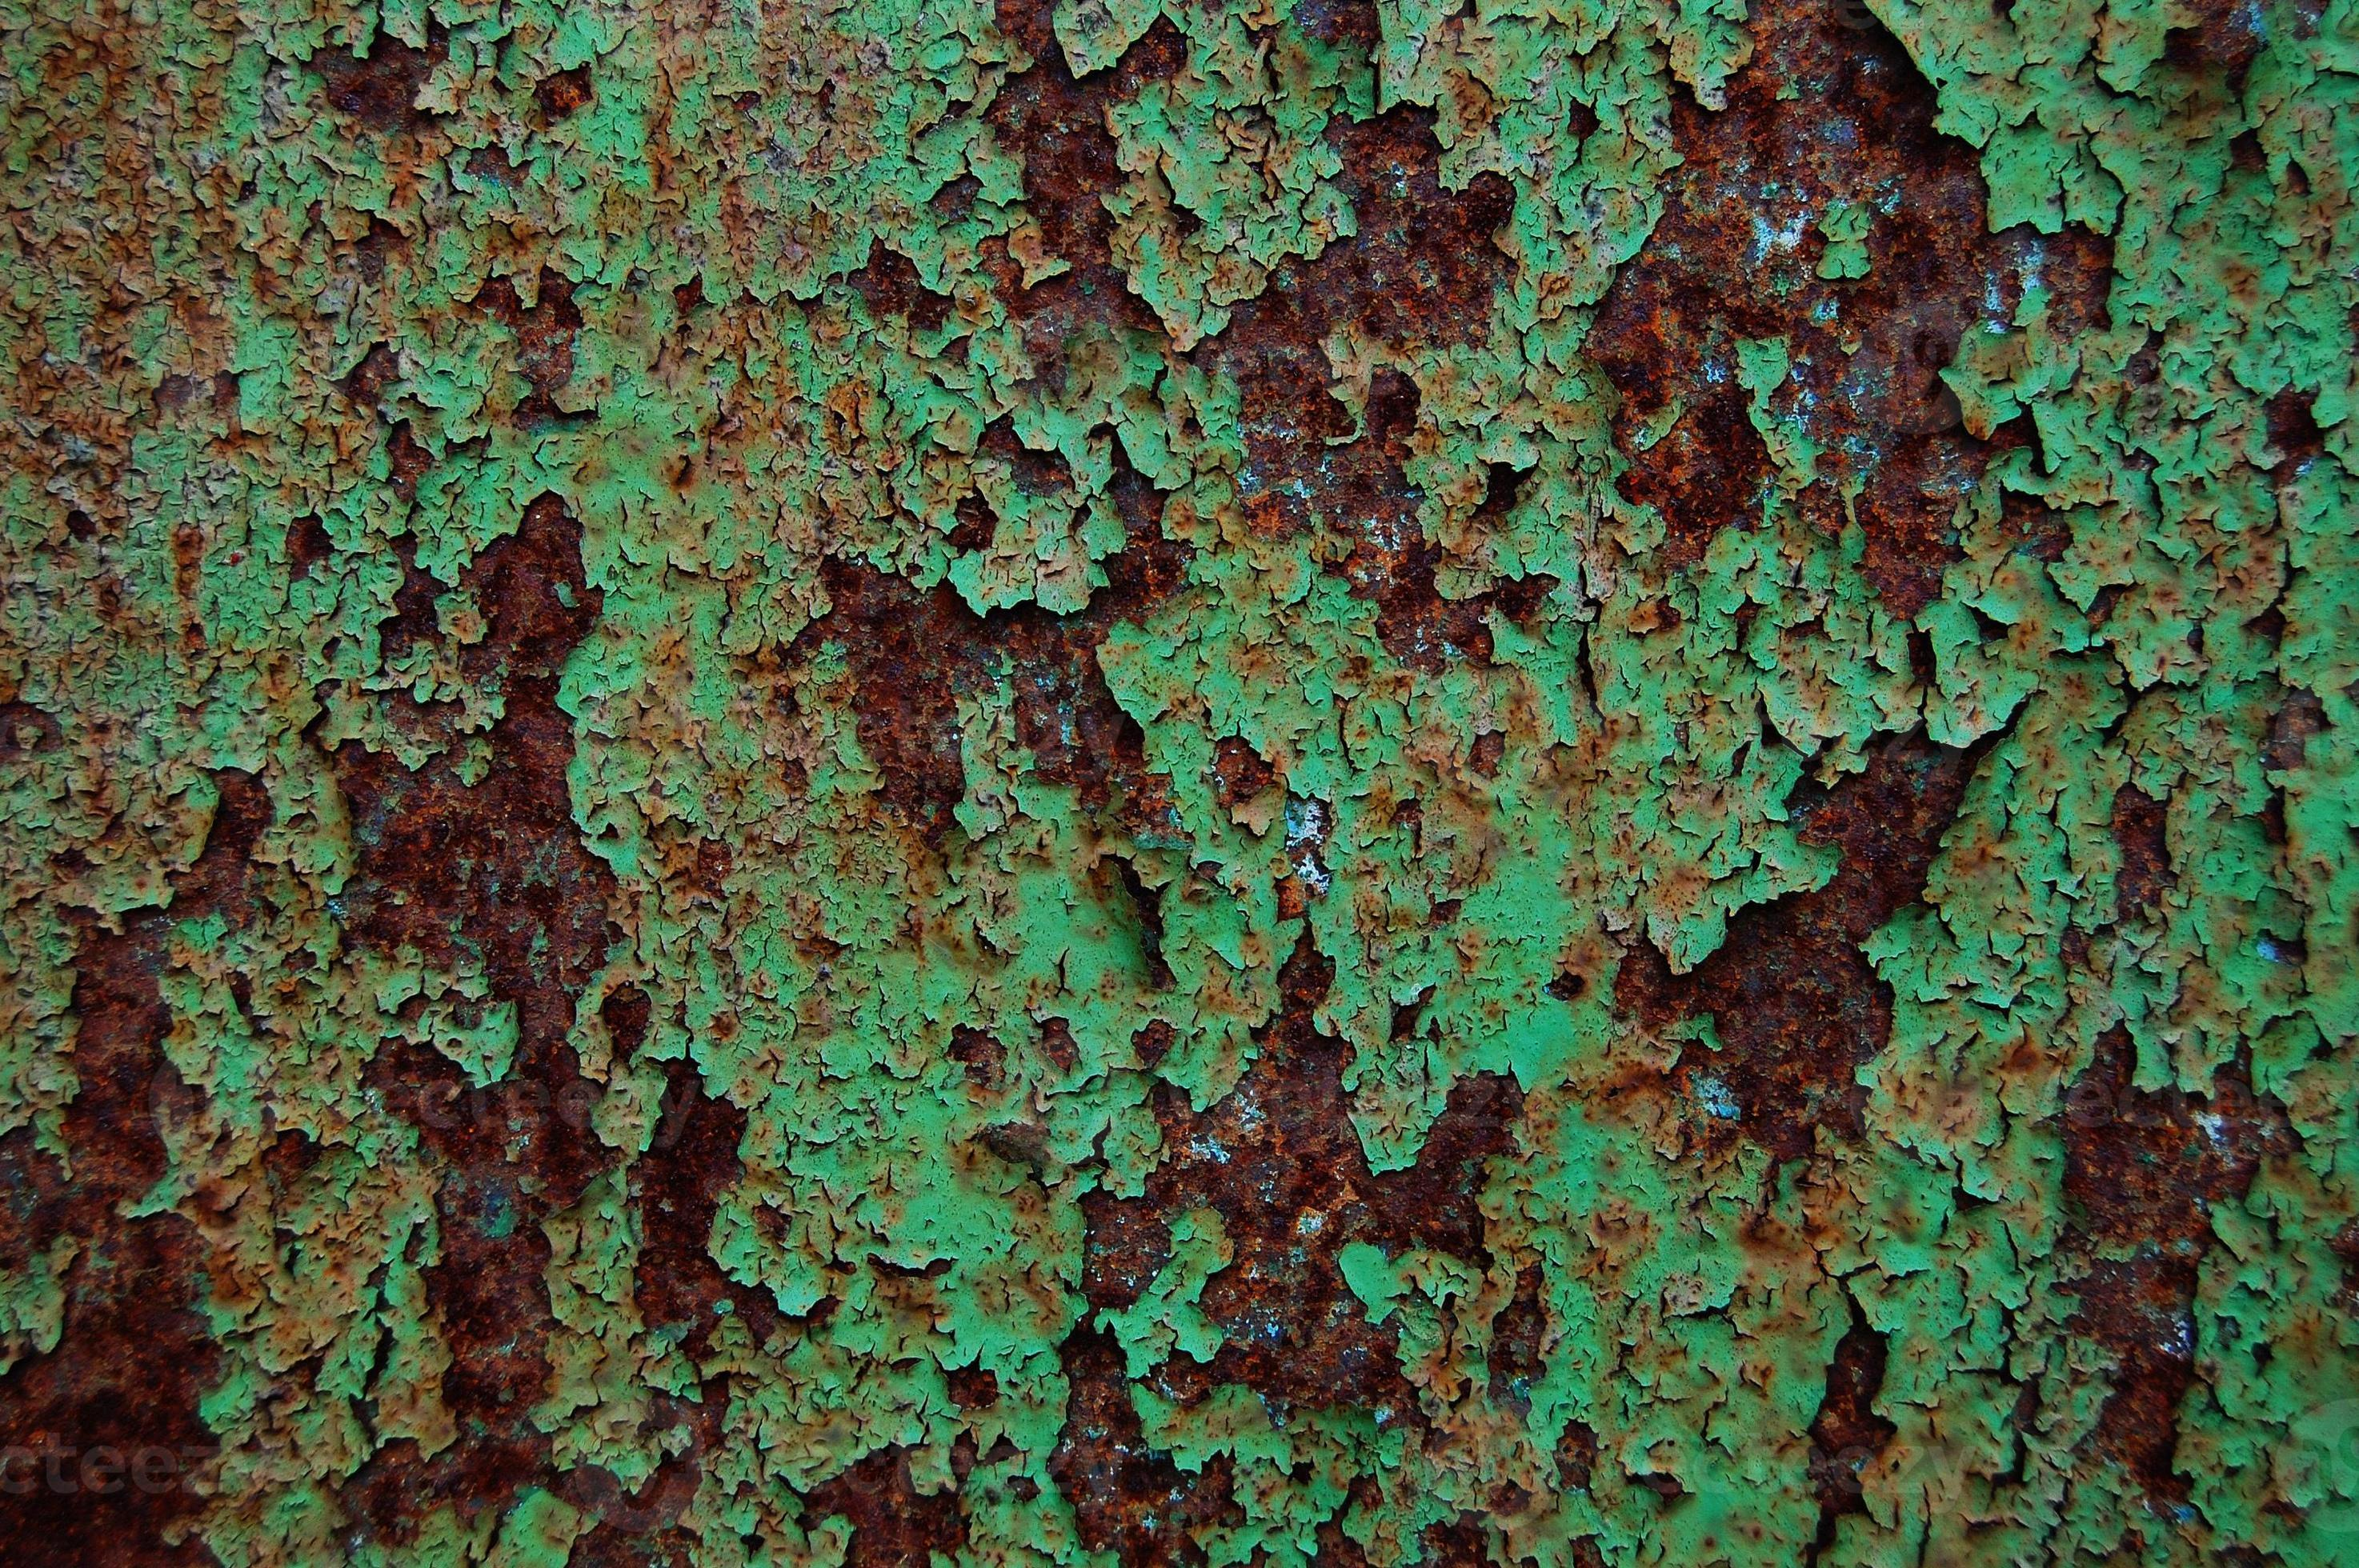rust: (1685, 84, 1990, 595), (357, 518, 597, 971), (1725, 744, 1976, 1144), (355, 1048, 588, 1456), (1298, 126, 1503, 348)
